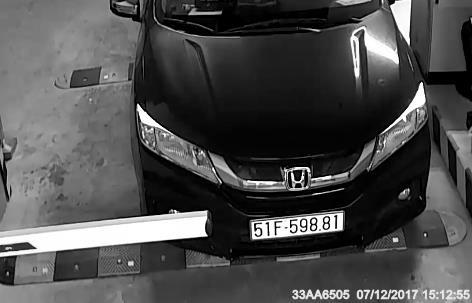License-plate: (241, 204, 354, 249)
